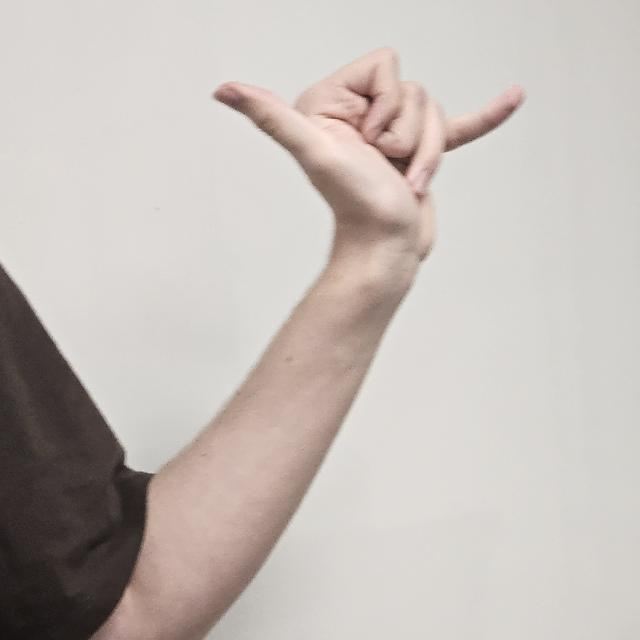Direita: (202, 29, 578, 265)
